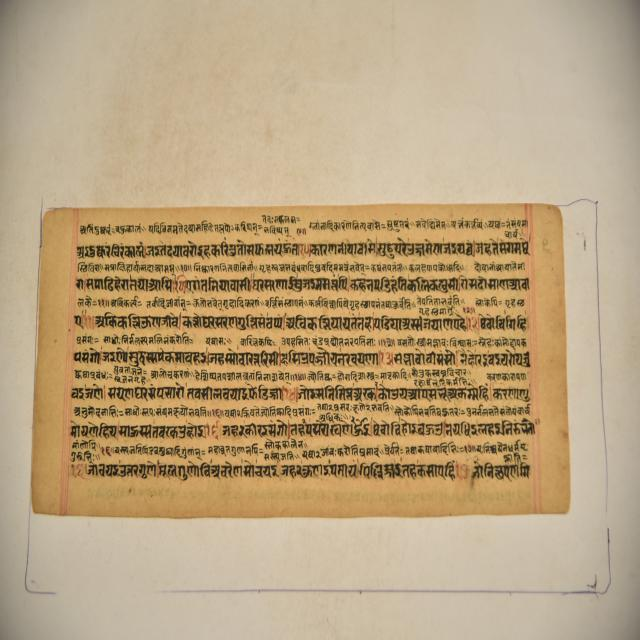text_paragraph: (30, 205, 569, 515)
